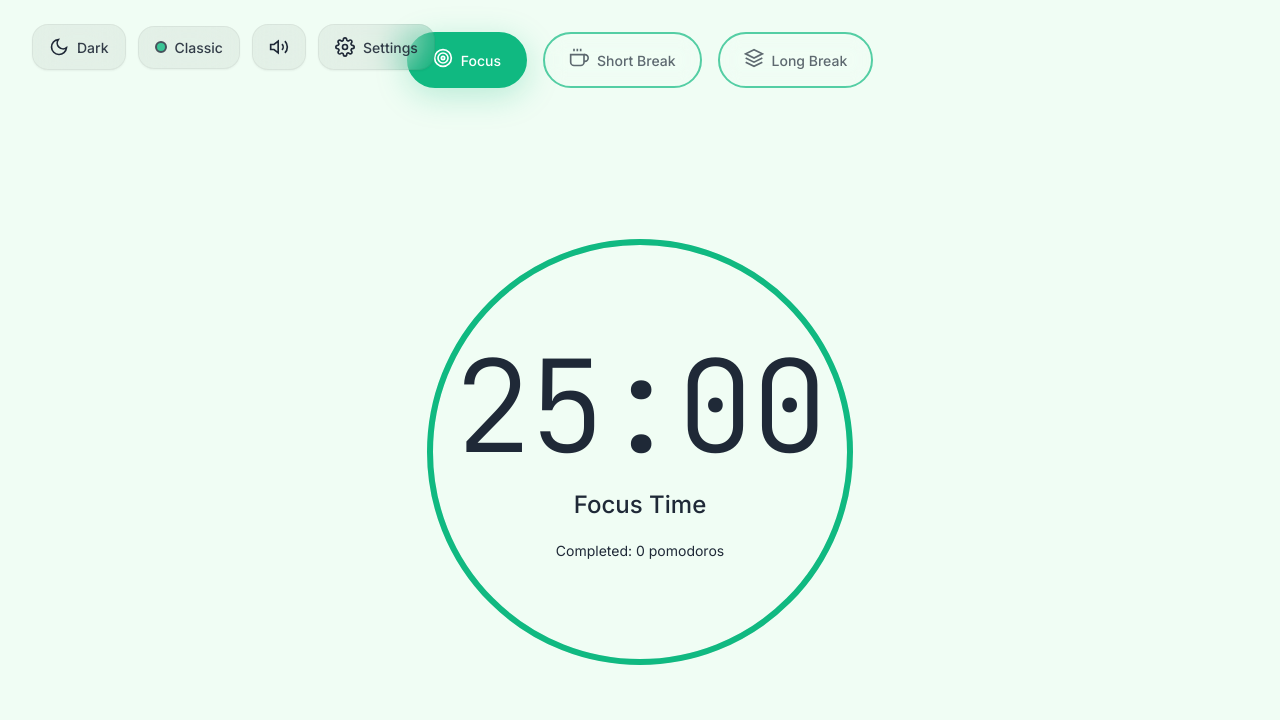
Test: Pomodoro Timer App › Settings Panel › opens settings panel when settings button is clicked
Step 1. Click the button "Settings" → [376, 47], box [318, 24, 435, 70]
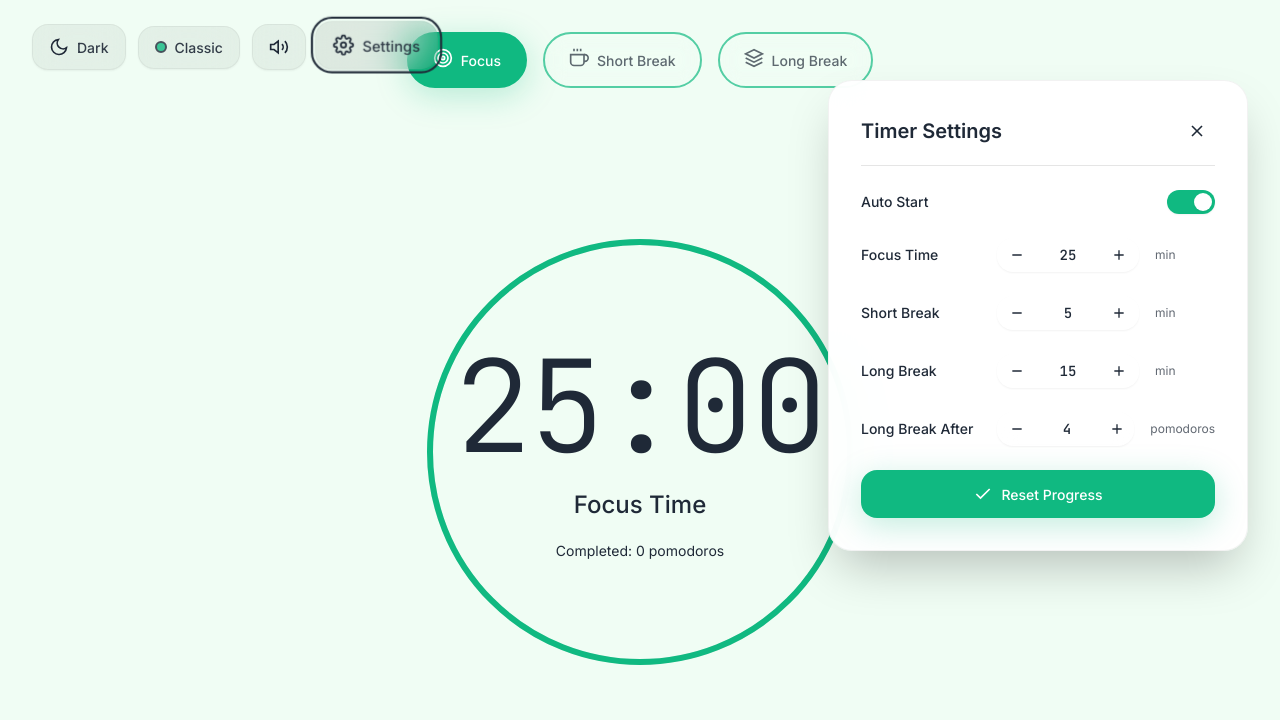
Check: the heading "Timer Settings" is shown, box [861, 115, 1002, 147]
